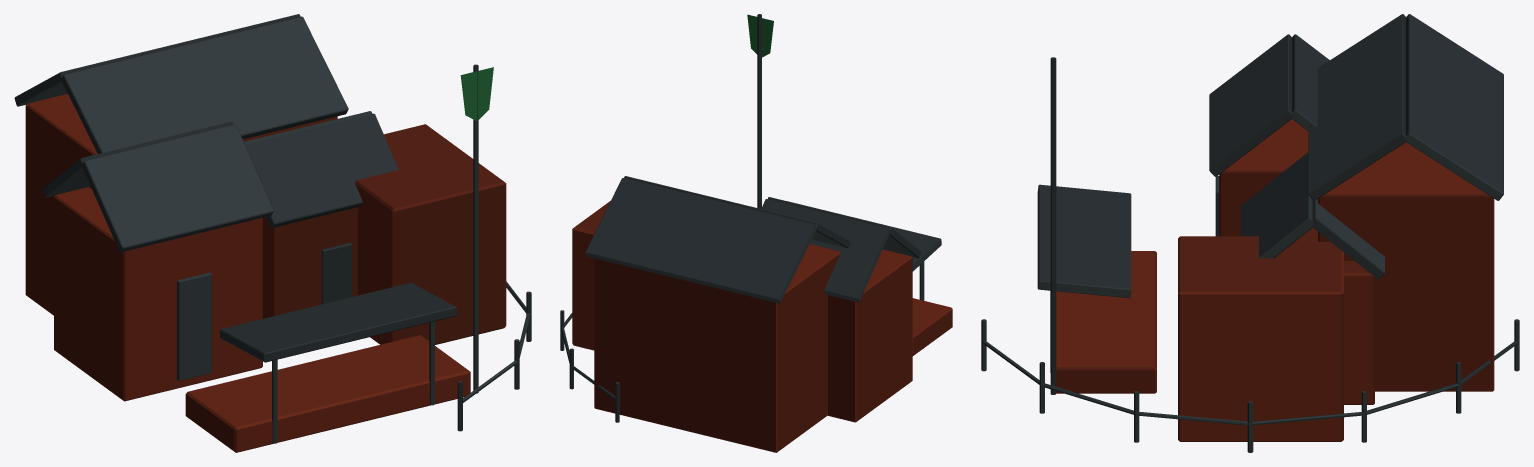
Rendered from edificio-b_002-e4-Ck6Y5V51.glb.
3 views of the same model, side by side, from view 1: azimuth 30°, elevation 25°; view 2: azimuth 150°, elevation 25°; view 3: azimuth 270°, elevation 25° (orthographic). The views are drawn at different scales.
Visible parts, largest first — view 1: edificio_b_002_e4_envolvente, edificio_b_002_e4_detalles, edificio_b_002_e4_team_color; view 2: edificio_b_002_e4_envolvente, edificio_b_002_e4_detalles, edificio_b_002_e4_team_color; view 3: edificio_b_002_e4_envolvente, edificio_b_002_e4_detalles.
Boxes of the visible parts, left/top/right/bottom form: edificio_b_002_e4_envolvente: left=25, top=94, right=506, bottom=452; edificio_b_002_e4_detalles: left=14, top=14, right=531, bottom=443; edificio_b_002_e4_team_color: left=460, top=67, right=493, bottom=120; edificio_b_002_e4_envolvente: left=572, top=201, right=952, bottom=452; edificio_b_002_e4_detalles: left=560, top=14, right=941, bottom=422; edificio_b_002_e4_team_color: left=747, top=14, right=773, bottom=57; edificio_b_002_e4_envolvente: left=1056, top=119, right=1494, bottom=441; edificio_b_002_e4_detalles: left=981, top=14, right=1519, bottom=452.
Size of the model in its own units: 44.93 by 36 by 51.88.
3 materials, 3 textured.
